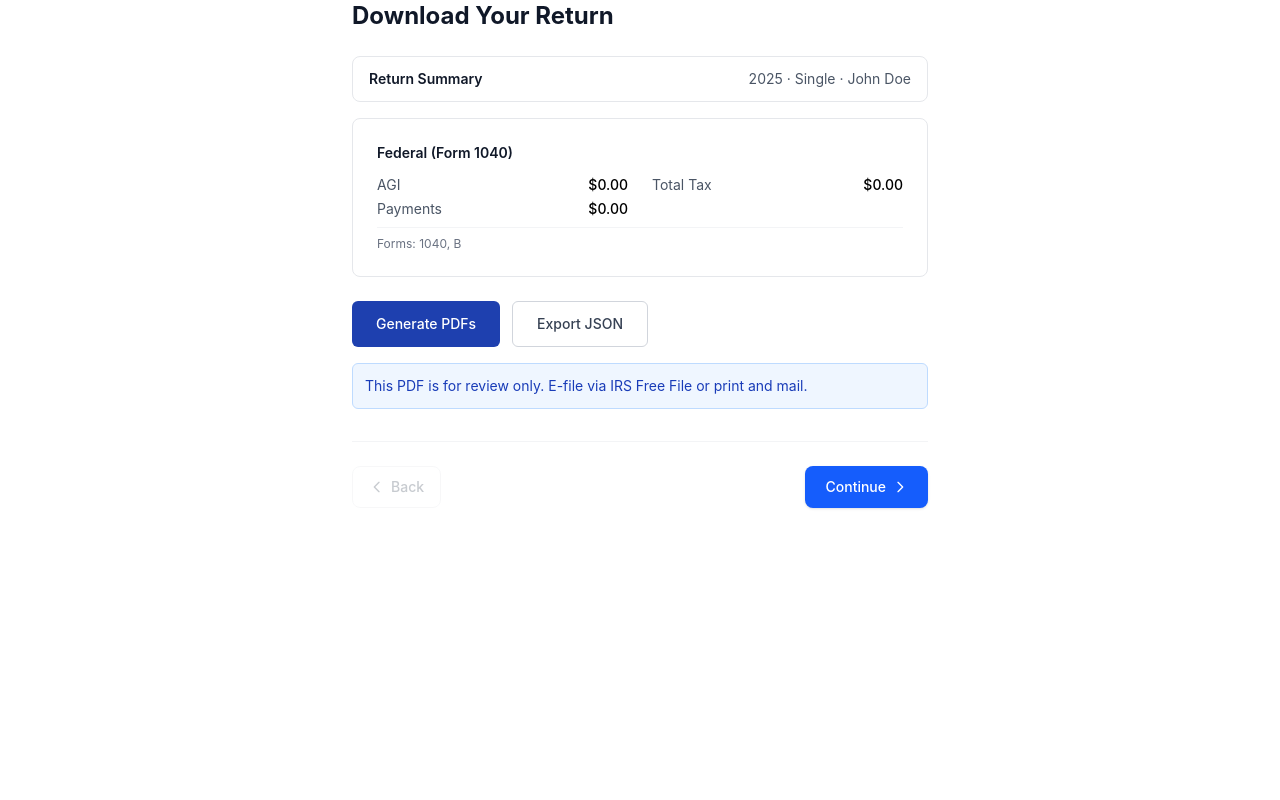
Test: DownloadPage PII export warning › closes dialog on Cancel
The width and height of the screenshot is (1280, 800).
Click the button with test id "export-json-btn": (580, 324) [512,301,648,347]
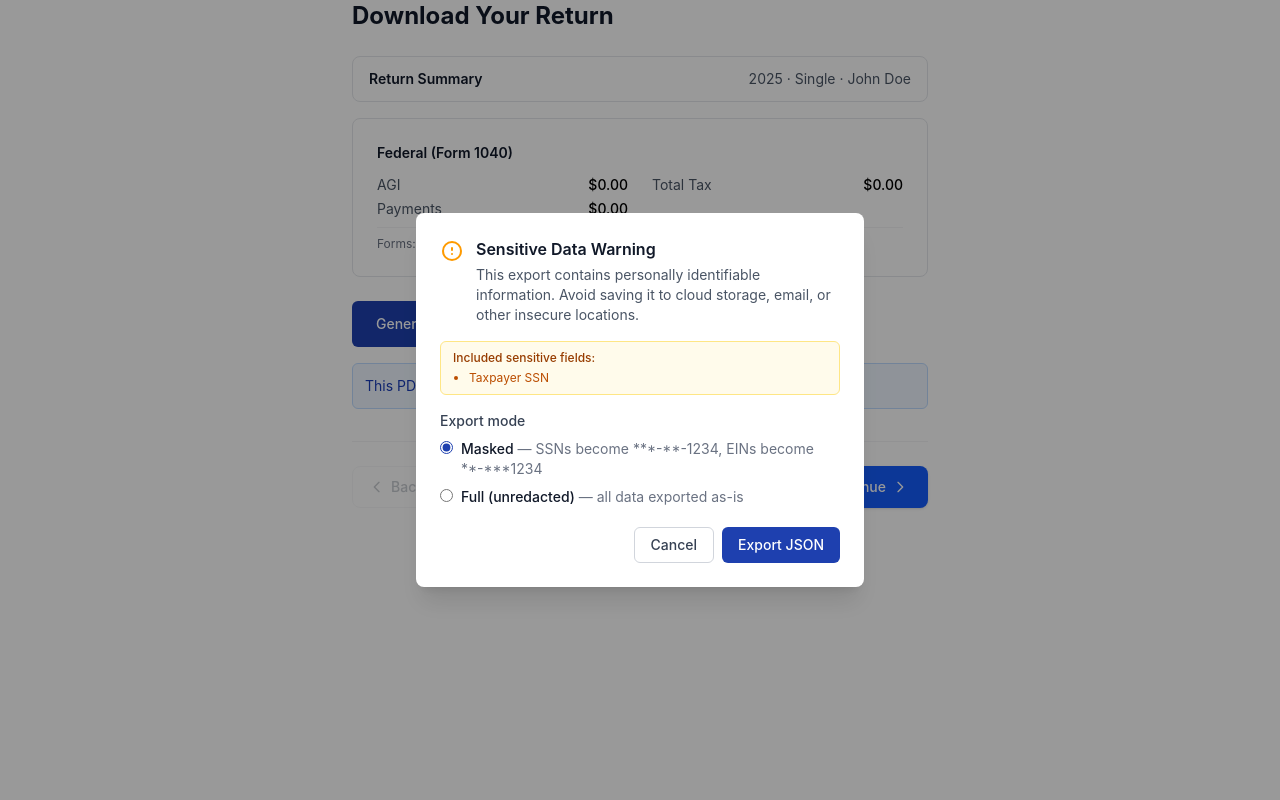
Expected: the dialog with test id "pii-export-dialog" is shown, [416,213,864,587]
Click the button with test id "pii-cancel-btn": (674, 545) [634,527,714,563]
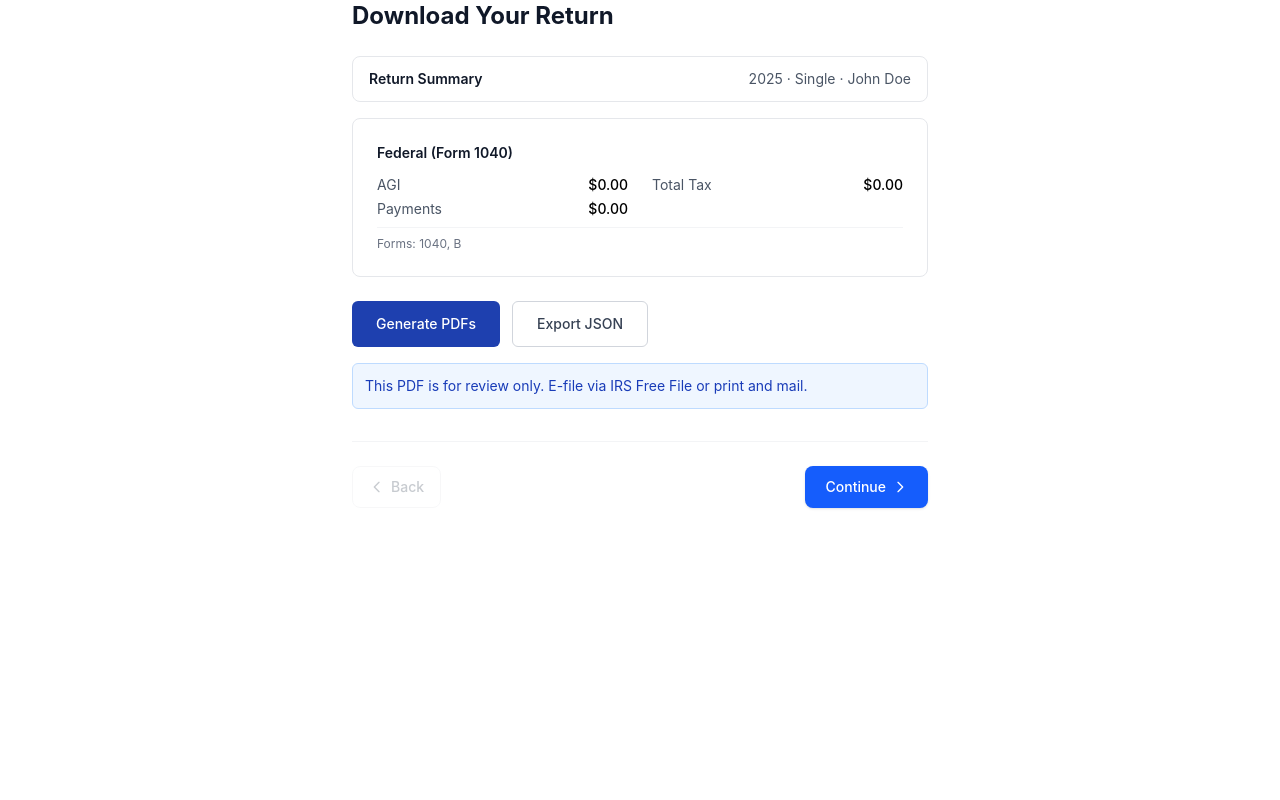
Expected: the dialog with test id "pii-export-dialog" is gone
